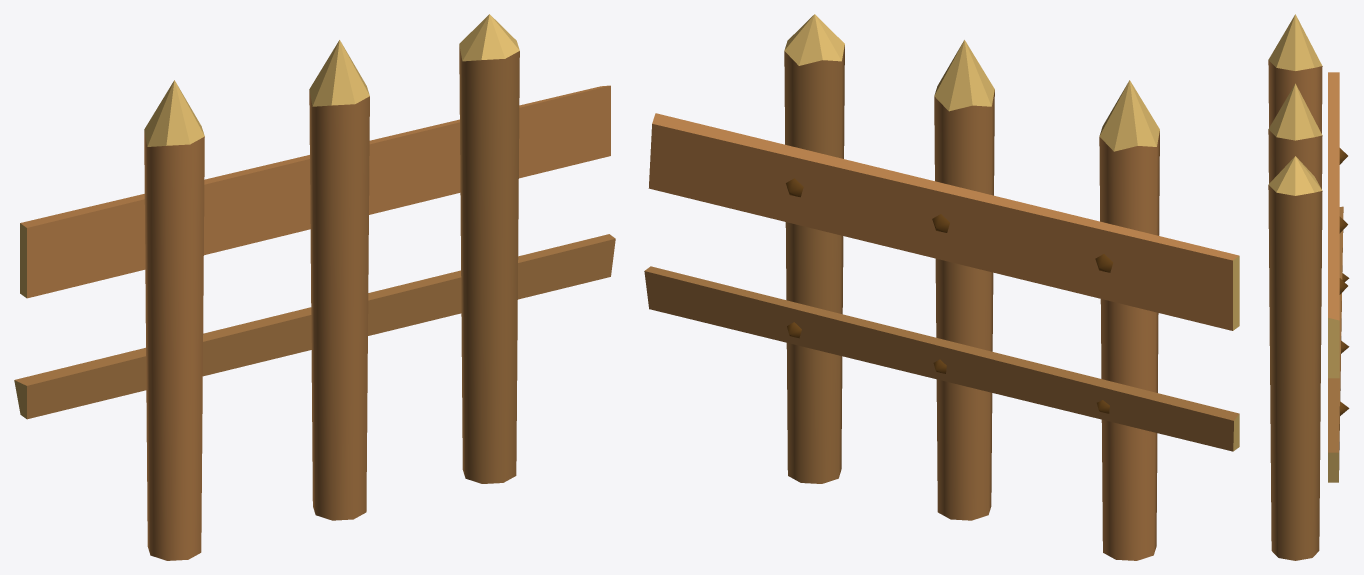
The model's file is Fense-ver2-light.fbx.
The picture shows the model from 3 angles, left to right: view 1: azimuth 30°, elevation 25°; view 2: azimuth 150°, elevation 25°; view 3: azimuth 270°, elevation 25°; orthographic projection. The views are drawn at different scales.
Visible parts, largest first — view 1: Fense-ver2-light; view 2: Fense-ver2-light; view 3: Fense-ver2-light.
Boxes of the visible parts, x1,y1,x2,y2 form: Fense-ver2-light: (14, 14, 615, 560); Fense-ver2-light: (644, 14, 1239, 560); Fense-ver2-light: (1268, 14, 1349, 560).
Size of the model in its own units: 1.61 by 1.22 by 0.2214.
1 material, 1 textured.
